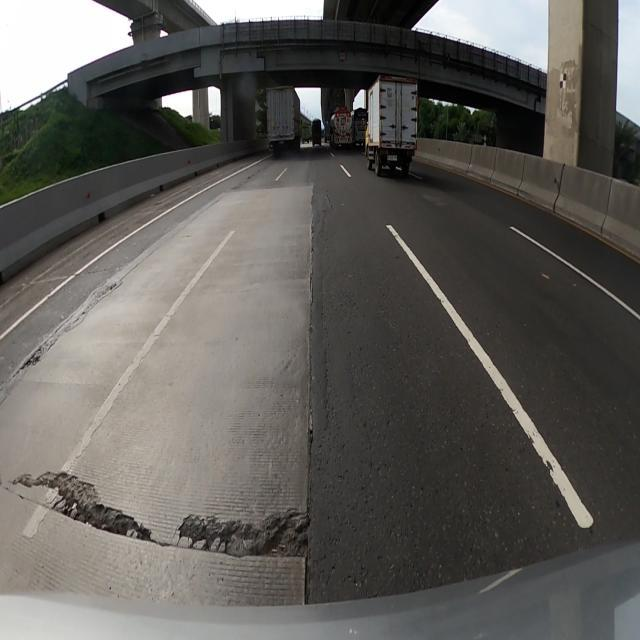Buraco: (6, 469, 158, 545), (174, 506, 317, 563), (17, 352, 44, 372)
